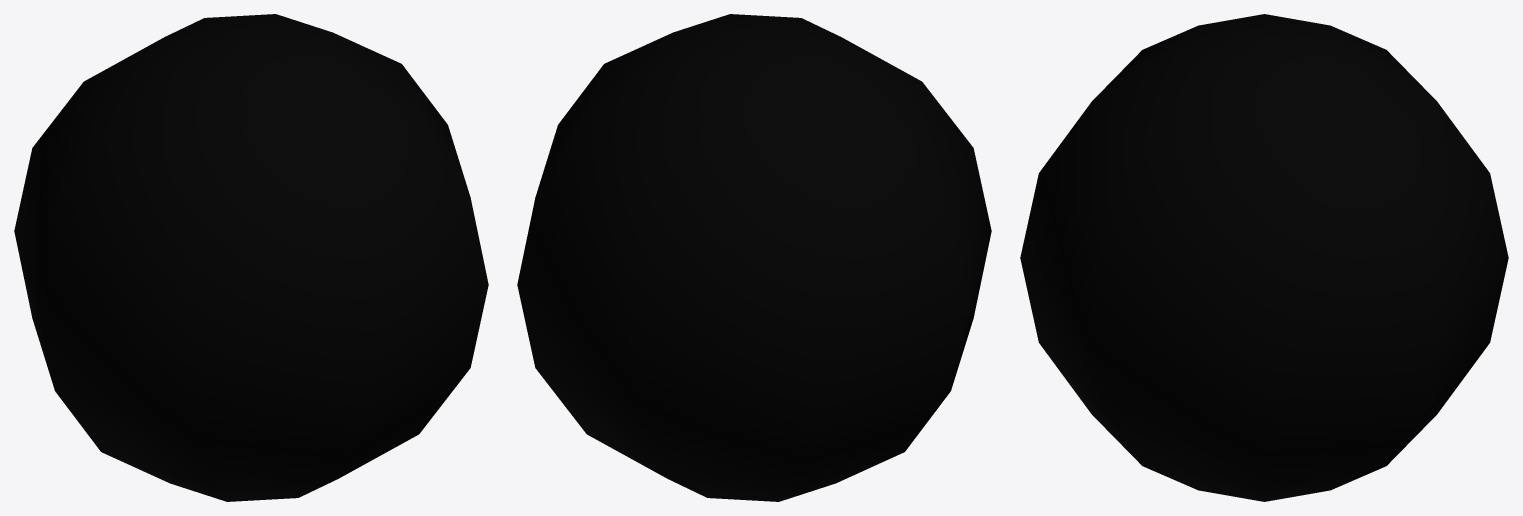
The model's file is smokeball.obj.
The picture shows the model from 3 angles, left to right: view 1: azimuth 30°, elevation 25°; view 2: azimuth 150°, elevation 25°; view 3: azimuth 270°, elevation 25°; orthographic projection.
Visible parts, largest first — view 1: Sphere.003_Sphere.006; view 2: Sphere.003_Sphere.006; view 3: Sphere.003_Sphere.006.
Part boxes in pixels (x1,y1,x2,y2): Sphere.003_Sphere.006: (14,14,488,501); Sphere.003_Sphere.006: (517,14,991,501); Sphere.003_Sphere.006: (1020,14,1508,501).
Bounding box in the file's own units: 3.46 × 3.46 × 3.46.
Materials: 1 (1 with a texture image).
